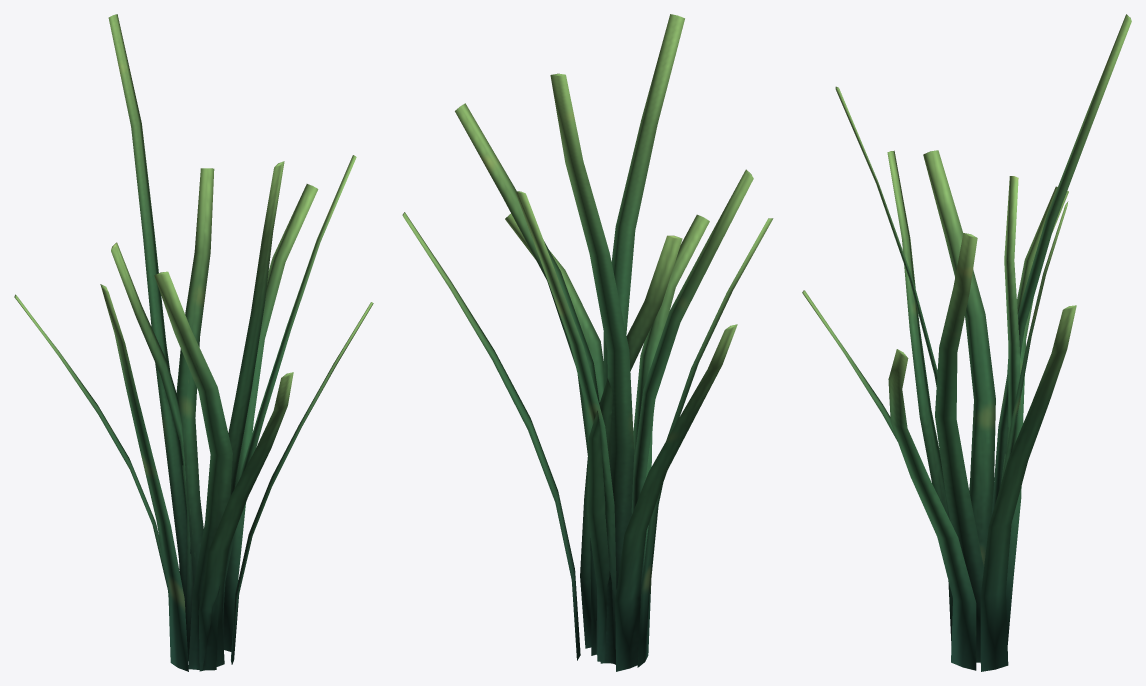
The model's file is Pasto_Acuatico.fbx.
3 views of the same model, side by side, from view 1: azimuth 30°, elevation 25°; view 2: azimuth 150°, elevation 25°; view 3: azimuth 270°, elevation 25° (orthographic). The views are drawn at different scales.
Parts seen in each view (by area): view 1: Malla; view 2: Malla; view 3: Malla.
Part boxes in pixels (x1,y1,x2,y2): Malla: [14, 14, 373, 671]; Malla: [402, 14, 773, 671]; Malla: [802, 14, 1131, 671].
Bounding box in the file's own units: 0.8444 × 1.58 × 0.749.
Materials: 1 (1 with a texture image).
